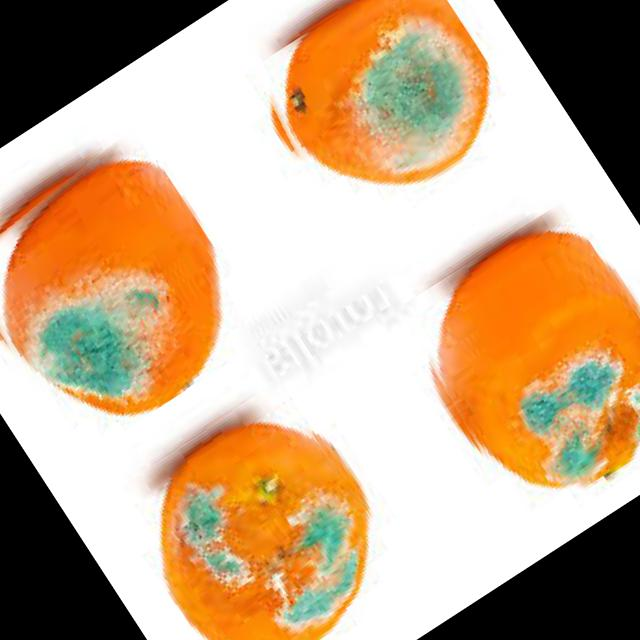Organic: (0, 123, 269, 462), (99, 374, 417, 640), (385, 199, 640, 530), (233, 0, 524, 240)
